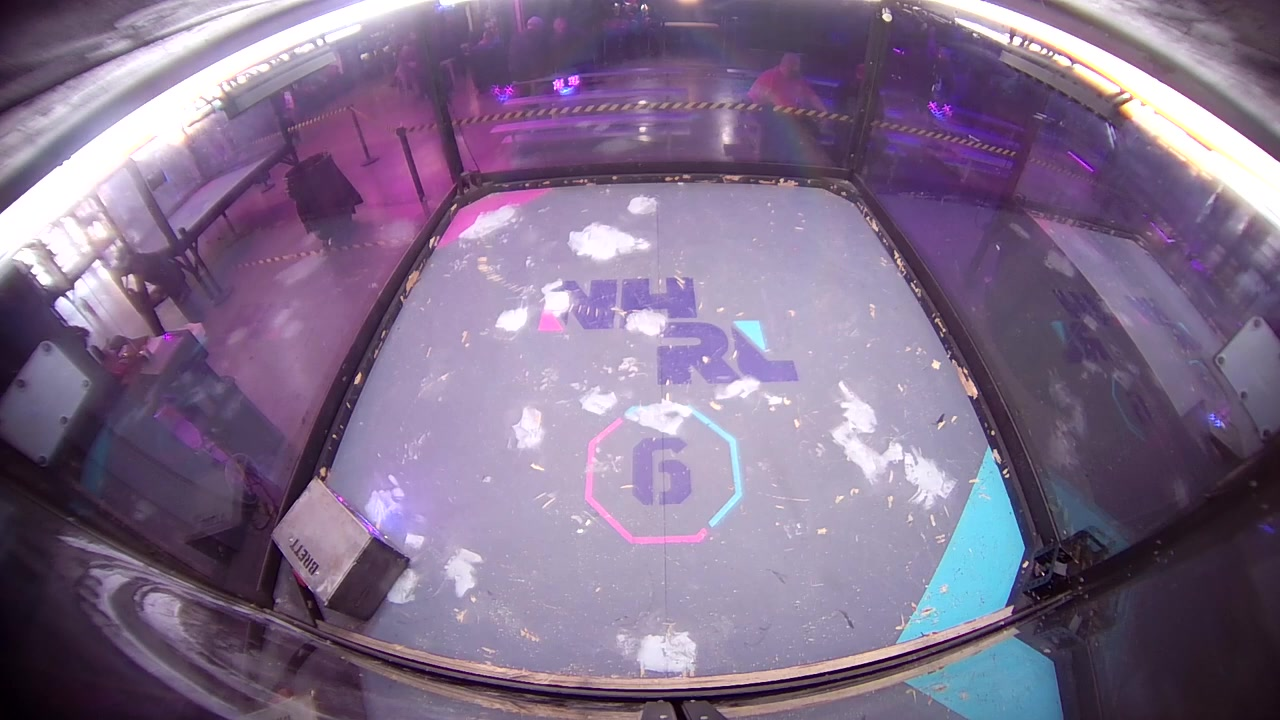housebot: (270, 473, 412, 623)
